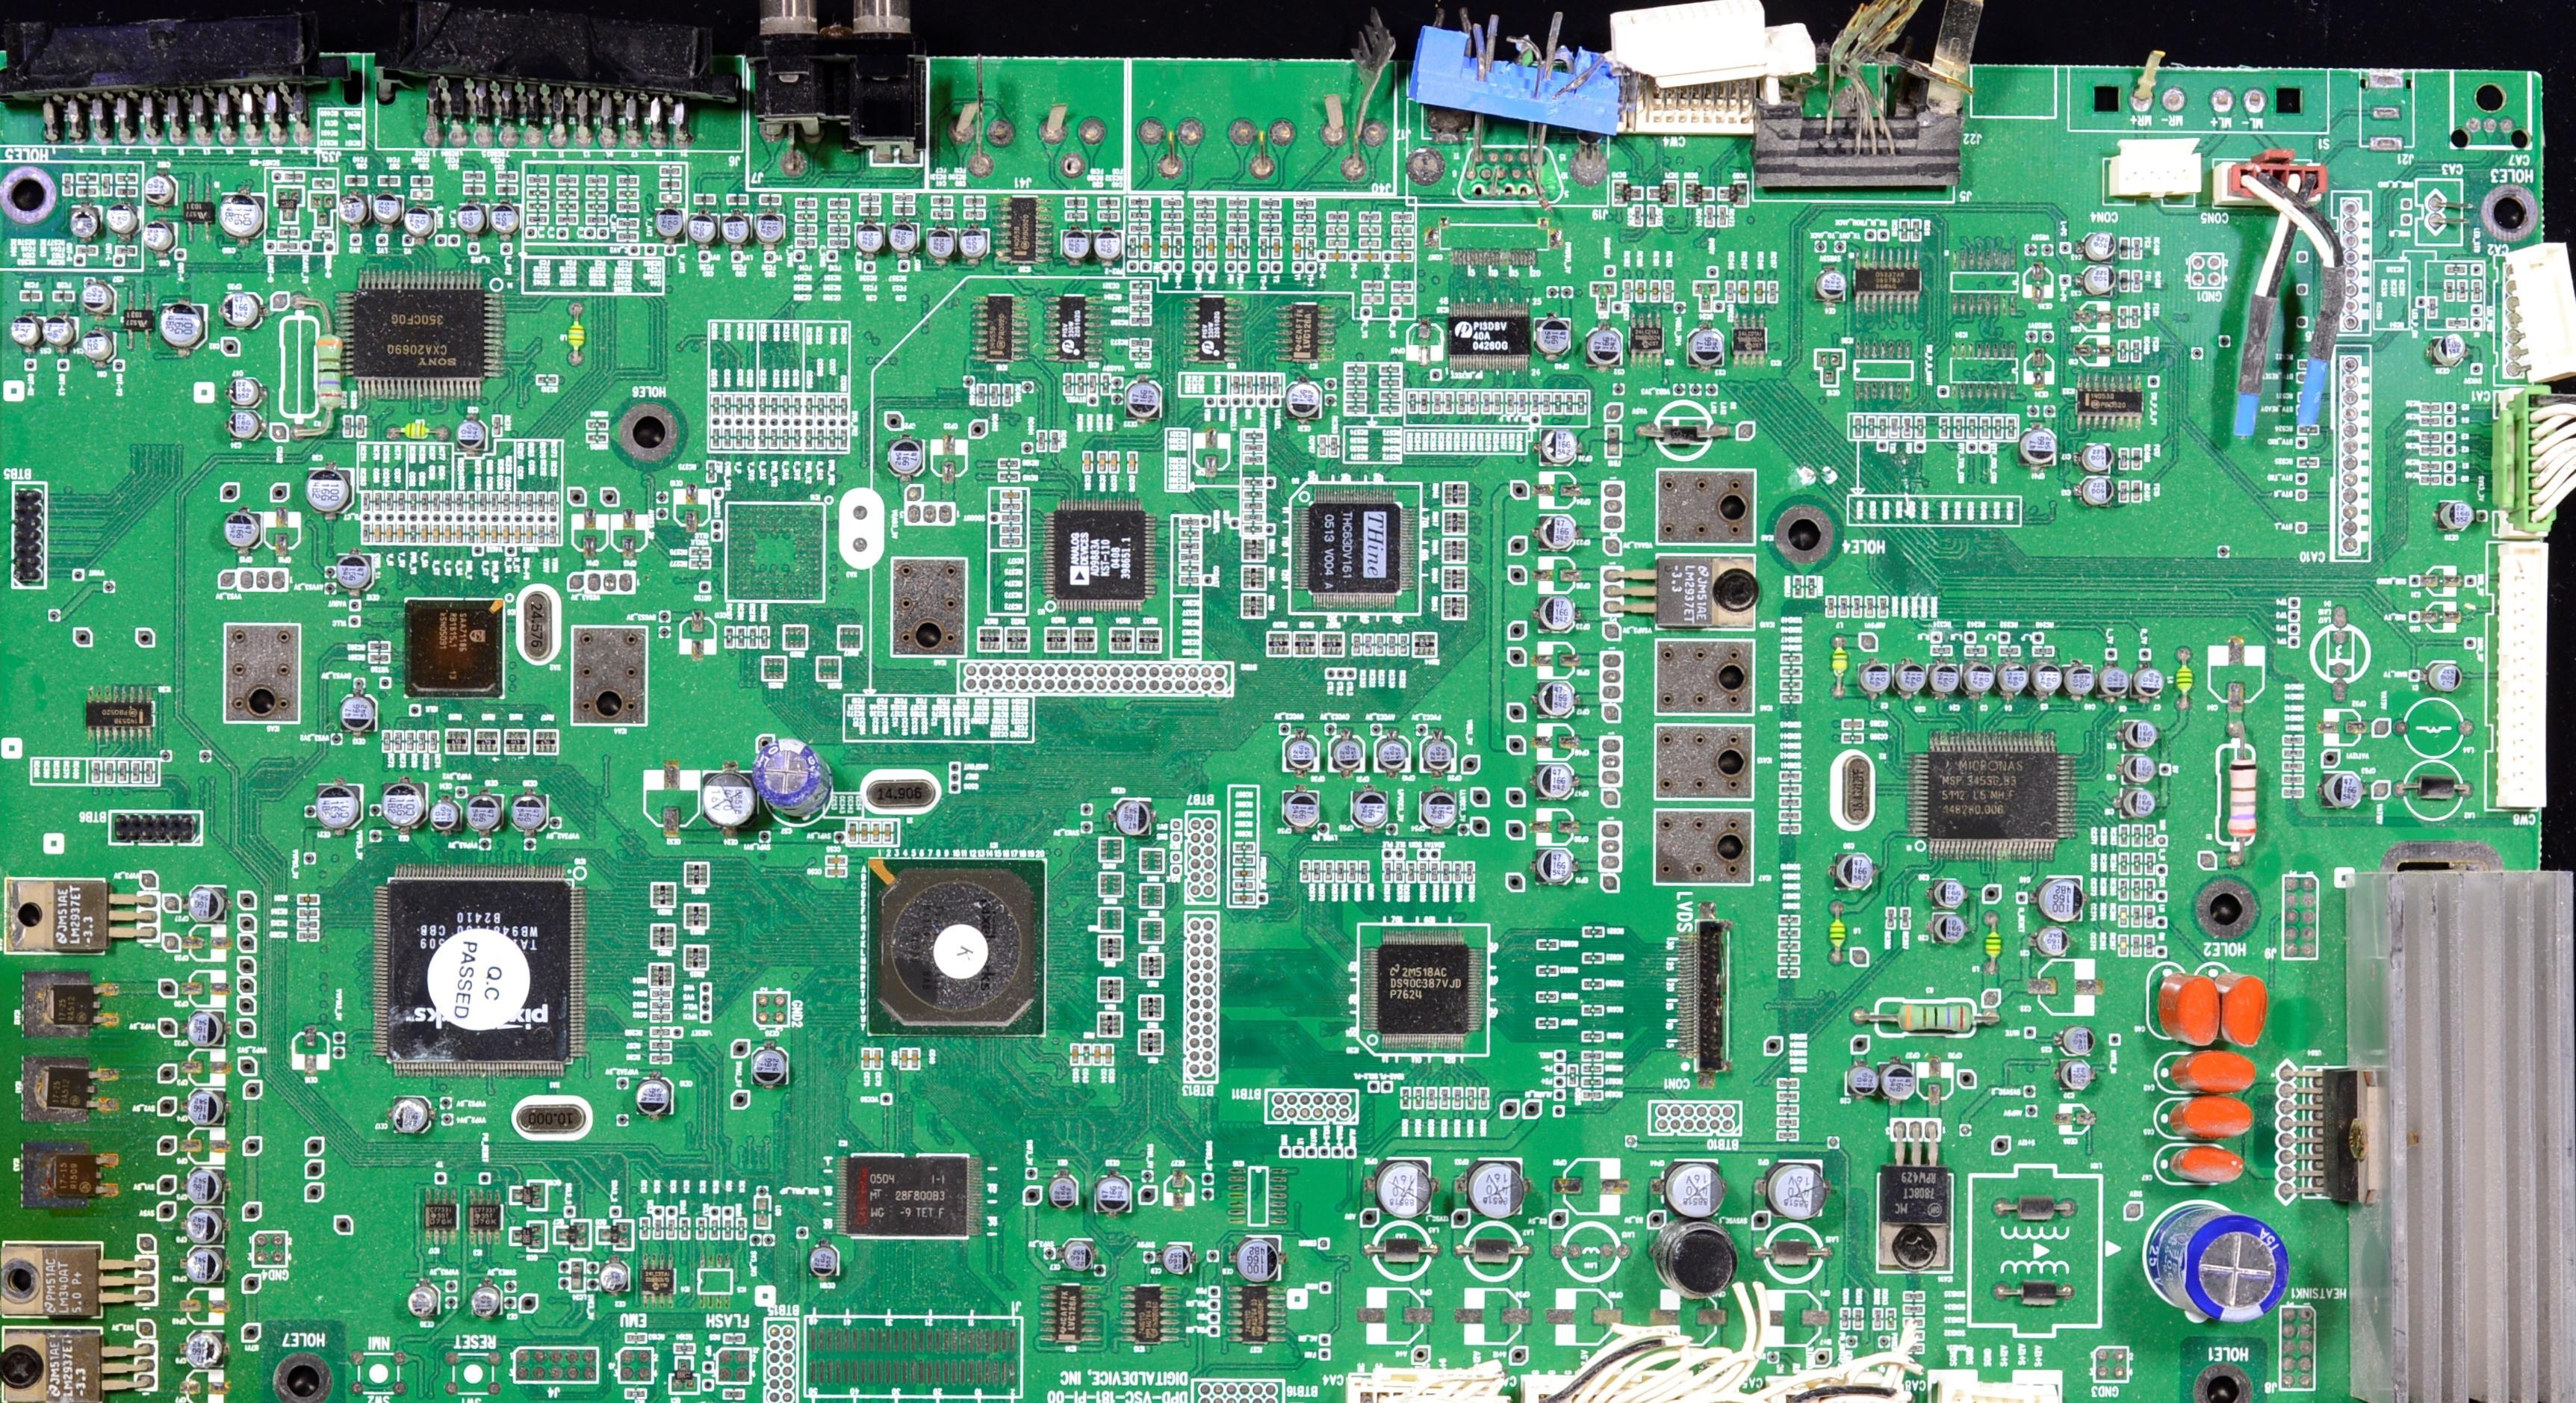Capacitor: (1464, 1152, 1549, 1220), (1355, 1163, 1450, 1222), (692, 771, 780, 829), (195, 508, 290, 558), (1763, 1166, 1839, 1222), (1262, 791, 1342, 843), (1540, 411, 1597, 480), (326, 541, 394, 596), (173, 873, 245, 923), (373, 1094, 445, 1144), (1122, 377, 1181, 435), (178, 1320, 240, 1375), (1823, 847, 1892, 895), (304, 465, 368, 517), (1925, 904, 1994, 949), (387, 776, 435, 840), (307, 779, 366, 831), (1412, 786, 1464, 845), (732, 1047, 799, 1092), (516, 774, 565, 836), (1155, 1239, 1212, 1289), (2315, 767, 2377, 812), (882, 430, 944, 475), (1416, 729, 1468, 781), (1666, 1159, 1720, 1209), (178, 1206, 259, 1239), (211, 396, 268, 442), (331, 695, 392, 738), (178, 1158, 245, 1196), (794, 1232, 844, 1282), (173, 1089, 238, 1127), (1272, 736, 1329, 779), (212, 365, 276, 403), (1236, 1235, 1288, 1282), (1934, 871, 1979, 923), (219, 190, 264, 242), (181, 1007, 245, 1044), (1091, 1178, 1145, 1222), (1531, 596, 1588, 636), (1355, 779, 1402, 828), (2022, 427, 2067, 477), (2034, 885, 2091, 923), (1678, 328, 1728, 371), (637, 1076, 679, 1128), (1538, 515, 1590, 556), (1530, 845, 1580, 885), (216, 290, 266, 330), (468, 791, 511, 836), (1540, 677, 1587, 719), (1588, 325, 1626, 373), (1373, 733, 1414, 776), (2428, 333, 2472, 373), (1324, 736, 1373, 772), (1537, 767, 1585, 803), (2056, 1026, 2106, 1061), (2436, 501, 2486, 536), (1809, 264, 1851, 306), (1537, 318, 1578, 359), (1048, 1170, 1096, 1204), (1057, 1237, 1107, 1270), (1882, 1064, 1920, 1106), (2434, 657, 2471, 698), (2096, 662, 2134, 700), (2058, 1061, 2101, 1094), (143, 216, 178, 256), (2082, 264, 2122, 299), (2120, 717, 2160, 752), (1060, 226, 1095, 264), (2080, 475, 2118, 510), (338, 192, 371, 232), (887, 221, 919, 263), (751, 213, 787, 247), (2134, 667, 2170, 701), (145, 175, 178, 213), (489, 202, 521, 240), (67, 204, 100, 242), (718, 211, 751, 249), (2124, 755, 2163, 786), (2065, 665, 2099, 700), (368, 194, 404, 226), (2080, 442, 2117, 475), (1998, 663, 2034, 696), (2032, 663, 2065, 700), (402, 207, 440, 238), (2122, 790, 2163, 817), (107, 202, 140, 237), (1858, 665, 1892, 698), (687, 213, 720, 245), (1896, 665, 1929, 698), (171, 1263, 223, 1284), (656, 207, 687, 242), (79, 285, 114, 316), (856, 223, 886, 259), (927, 226, 957, 263), (1847, 1068, 1878, 1101), (442, 795, 470, 831), (1093, 232, 1124, 263), (1932, 663, 1963, 695), (958, 228, 988, 261), (2087, 232, 2117, 263), (458, 206, 487, 235), (76, 244, 105, 257), (114, 244, 143, 257)
Connector: (2474, 539, 2576, 836), (2491, 233, 2576, 394)
IC: (1343, 923, 1504, 1073), (338, 275, 528, 390), (1916, 740, 2072, 848), (1293, 486, 1417, 596), (1043, 499, 1159, 598), (57, 681, 174, 741), (1447, 301, 1530, 371), (2068, 371, 2148, 430), (998, 194, 1050, 271), (1854, 261, 1932, 311), (1730, 316, 1780, 365), (1630, 320, 1670, 363), (183, 200, 218, 226)
Resistor: (60, 169, 78, 197), (74, 171, 104, 185), (117, 171, 140, 187), (314, 176, 338, 190), (100, 173, 112, 197)
Transistor: (1692, 280, 1727, 321), (273, 185, 304, 226), (1590, 280, 1621, 321), (311, 192, 342, 232)
